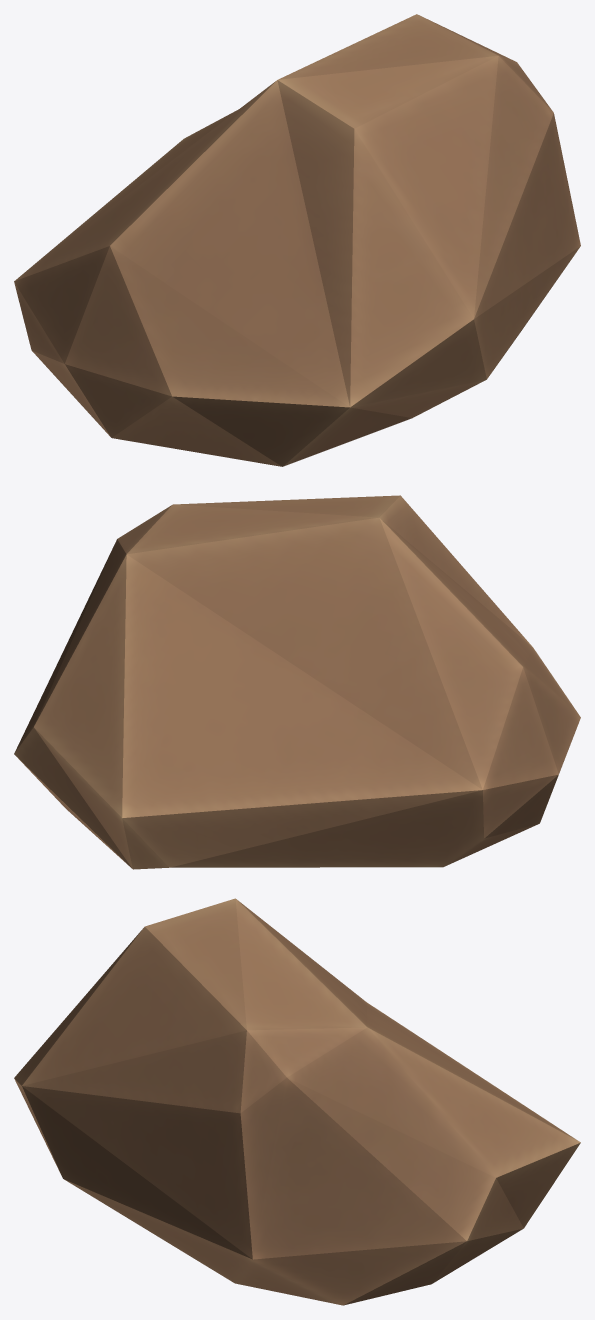
File: Rock_37.fbx
The picture shows the model from 3 angles, top to bottom: view 1: azimuth 30°, elevation 25°; view 2: azimuth 150°, elevation 25°; view 3: azimuth 270°, elevation 25°; orthographic projection. The views are drawn at different scales.
Parts seen in each view (by area): view 1: Rock_37; view 2: Rock_37; view 3: Rock_37.
Part boxes in pixels (x1,y1,x2,y2): Rock_37: (14,14,580,466); Rock_37: (14,495,580,869); Rock_37: (14,898,580,1305).
Bounding box in the file's own units: 37.17 × 39.01 × 21.12.
1 material, 1 textured.
